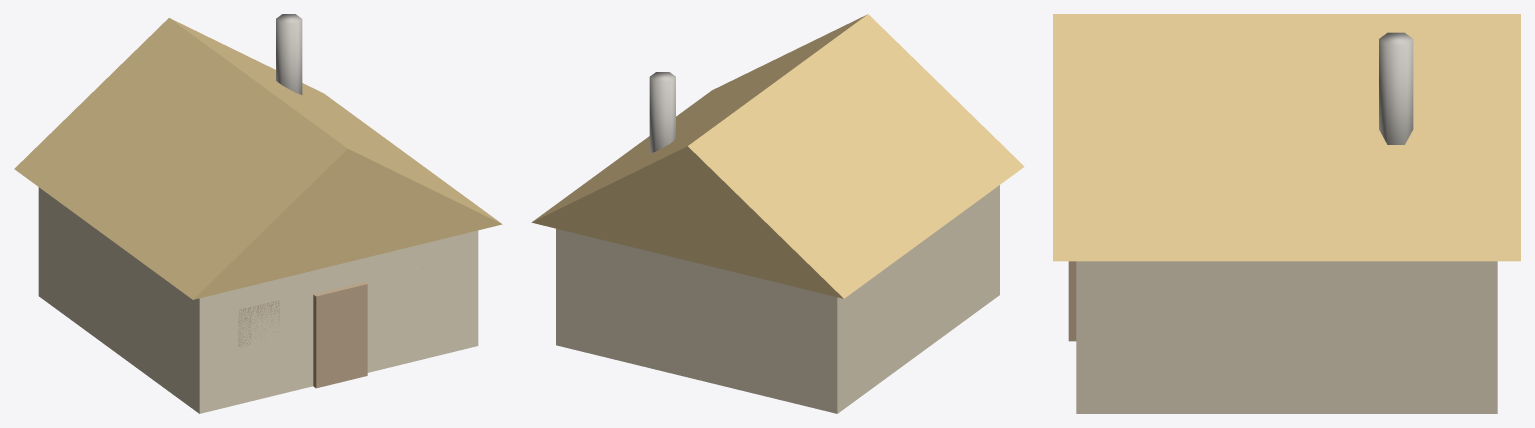
File: house.glb
3 views of the same model, side by side, from view 1: azimuth 30°, elevation 25°; view 2: azimuth 150°, elevation 25°; view 3: azimuth 270°, elevation 25° (orthographic). The views are drawn at different scales.
Parts seen in each view (by area): view 1: house_roof, house_plaster, house_wood, house_stone; view 2: house_roof, house_plaster, house_stone; view 3: house_roof, house_plaster, house_stone, house_wood.
Part boxes in pixels (x1,y1,x2,y2): house_roof: (14,18,502,299); house_plaster: (38,187,478,413); house_wood: (313,282,367,388); house_stone: (276,14,302,94); house_roof: (531,14,1024,298); house_plaster: (556,185,999,413); house_stone: (649,72,675,153); house_roof: (1053,14,1520,261); house_plaster: (1076,261,1497,413); house_stone: (1379,32,1413,144); house_wood: (1068,261,1076,341).
Bounding box in the file's own units: 2 × 1.57 × 2.
